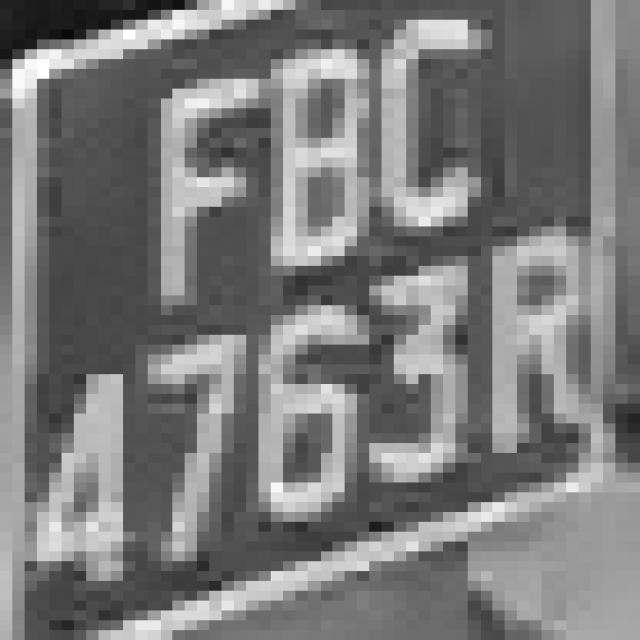3: (357, 246, 492, 502)
4: (24, 325, 148, 591)
6: (246, 276, 369, 512)
7: (123, 335, 234, 571)
B: (234, 39, 381, 266)
C: (369, 0, 504, 226)
F: (111, 49, 271, 325)
R: (468, 227, 590, 482)
